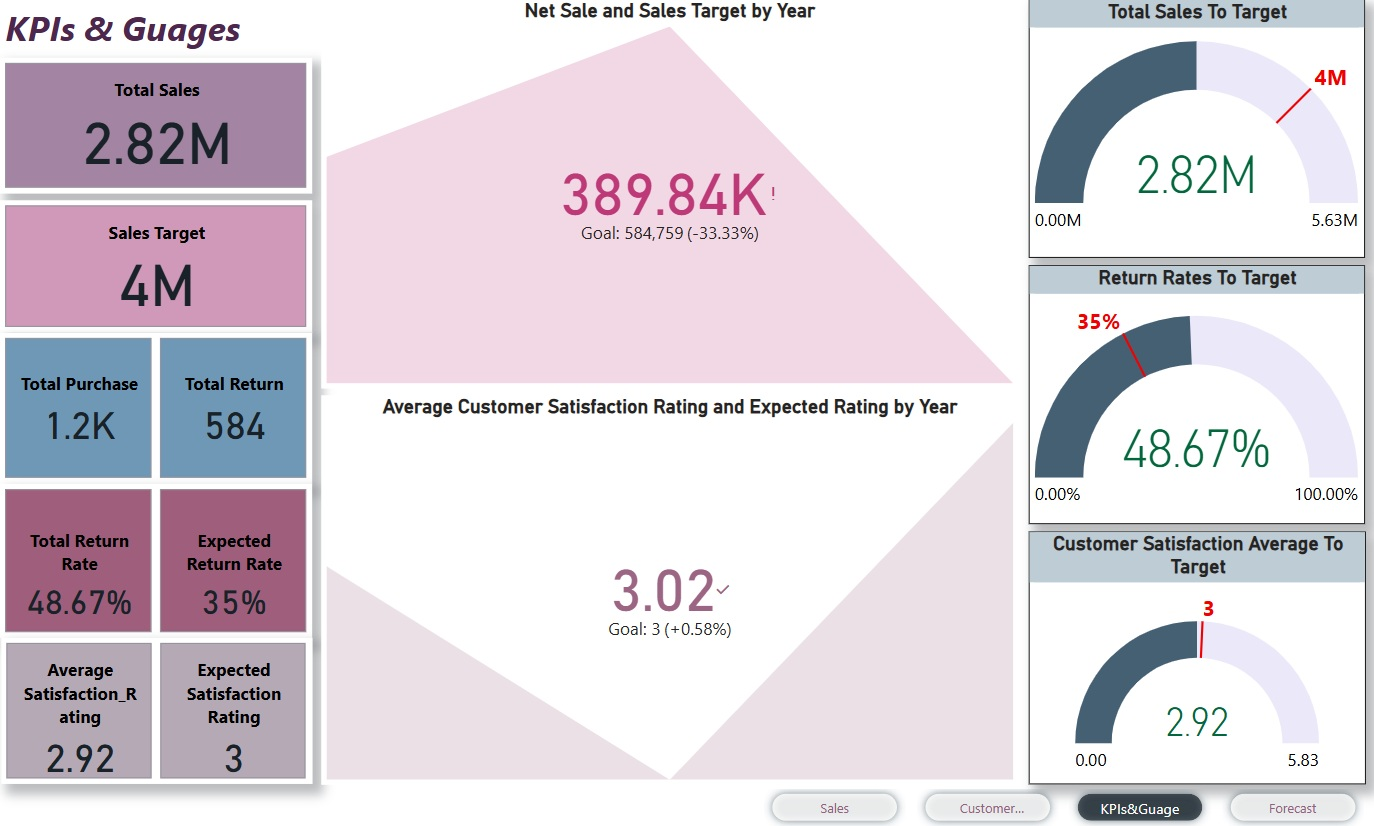

The dashboard page shown, as its layout file describes it:
{"tool":"powerbi","page":{"name":"KPIs&Guage","canvas":[1280,773],"ordinal":2},"visuals":[{"type":"cardVisual","title":"Net Sale","fields":{"Data":["Sum(retail_sales_customer_satisfact.Net Sale)"]},"box":[0,54.7,290.7,126.7],"z":0},{"type":"cardVisual","fields":{"Data":["retail_sales_customer_satisfact.Net_Sale_Target"]},"box":[0,187.2,290.7,123.3],"z":1000},{"type":"gauge","title":"Total Sales To Target","fields":{"Y":["Sum(retail_sales_customer_satisfact.Net Sale)"],"TargetValue":["retail_sales_customer_satisfact.Net_Sale_Target"]},"box":[957,0,312.8,240.7],"z":2000},{"type":"cardVisual","fields":{"Data":["Count(retail_sales_customer_satisfact.Transaction_ID)","retail_sales_customer_satisfact.Return_Rate"]},"box":[0,310.5,290.7,140.7],"z":3000},{"type":"cardVisual","fields":{"Data":["retail_sales_customer_satisfact.Return_Rate","retail_sales_customer_satisfact.Return_Target"]},"box":[0,451.2,290.7,143],"z":4000},{"type":"gauge","title":"Return Rates To Target","fields":{"Y":["retail_sales_customer_satisfact.Return_Rate"],"TargetValue":["retail_sales_customer_satisfact.Return_Target"]},"box":[957,247.7,312.8,240.7],"z":5000},{"type":"cardVisual","fields":{"Data":["Avg(retail_sales_customer_satisfact.Customer_Satisfaction_Rating)","retail_sales_customer_satisfact.Customer_Satisfaction_Target"]},"box":[1.2,594.2,289.5,136],"z":6000},{"type":"gauge","title":"Customer Satisfaction Average  To Target","fields":{"Y":["Avg(retail_sales_customer_satisfact.Customer_Satisfaction_Rating)"],"TargetValue":["retail_sales_customer_satisfact.Customer_Satisfaction_Target"]},"box":[957,495.4,314,234.9],"z":7000},{"type":"kpi","title":"Net Sale and Sales Target by Year","fields":{"Indicator":["Sum(retail_sales_customer_satisfact.Net Sale)"],"Goal":["retail_sales_customer_satisfact.Net_Sale_Target"],"TrendLine":["retail_sales_customer_satisfact.Purchase_Date.Variation.Date Hierarchy.Year"]},"box":[298.8,0,648.8,362.8],"z":8000},{"type":"kpi","title":"Average Customer Satisfaction Rating and Expected Rating by Year","fields":{"Goal":["retail_sales_customer_satisfact.Customer_Satisfaction_Target"],"Indicator":["Avg(retail_sales_customer_satisfact.Customer_Satisfaction_Rating)"],"TrendLine":["retail_sales_customer_satisfact.Purchase_Date.Variation.Date Hierarchy.Year"]},"box":[298.8,368.6,648.8,362.8],"z":10000},{"type":"textbox","box":[0,0,262.8,83.7],"z":11000},{"type":"pageNavigator","box":[710.5,731.1,559.3,41.9],"z":12000}]}

Visuals, with their boxes in screenshot pixels (x1, y1, x2, y2), scaled from the page's 1280x773 canvas onto the 1374x826 screenshot:
"Net Sale" cardVisual: bbox(0, 58, 312, 194)
cardVisual - retail_sales_customer_satisfact.Net_Sale_Target: bbox(0, 200, 312, 332)
"Total Sales To Target" gauge: bbox(1027, 0, 1363, 257)
cardVisual - Count(retail_sales_customer_satisfact.Transaction_ID) x retail_sales_customer_satisfact.Return_Rate: bbox(0, 332, 312, 482)
cardVisual - retail_sales_customer_satisfact.Return_Rate x retail_sales_customer_satisfact.Return_Target: bbox(0, 482, 312, 635)
"Return Rates To Target" gauge: bbox(1027, 265, 1363, 522)
cardVisual - Avg(retail_sales_customer_satisfact.Customer_Satisfaction_Rating) x retail_sales_customer_satisfact.Customer_Satisfaction_Target: bbox(1, 635, 312, 780)
"Customer Satisfaction Average  To Target" gauge: bbox(1027, 529, 1364, 780)
"Net Sale and Sales Target by Year" kpi: bbox(321, 0, 1017, 388)
"Average Customer Satisfaction Rating and Expected Rating by Year" kpi: bbox(321, 394, 1017, 782)
textbox: bbox(0, 0, 282, 89)
pageNavigator: bbox(763, 781, 1363, 825)
